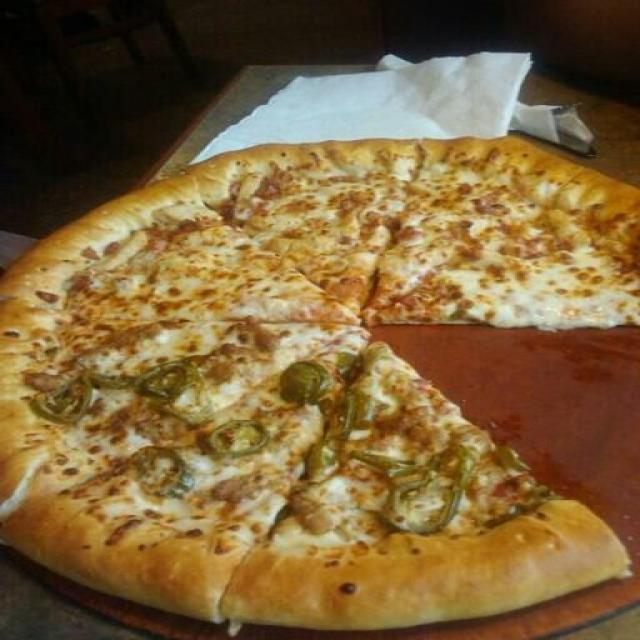Jalapenoes: (383, 449, 473, 539), (118, 441, 191, 506), (28, 381, 99, 424), (203, 418, 273, 460), (137, 358, 198, 404), (358, 444, 419, 482), (283, 362, 323, 406), (331, 386, 362, 441), (300, 439, 335, 478), (73, 368, 132, 388), (334, 393, 356, 430), (340, 349, 358, 380)
Pizza: (0, 133, 640, 629)
